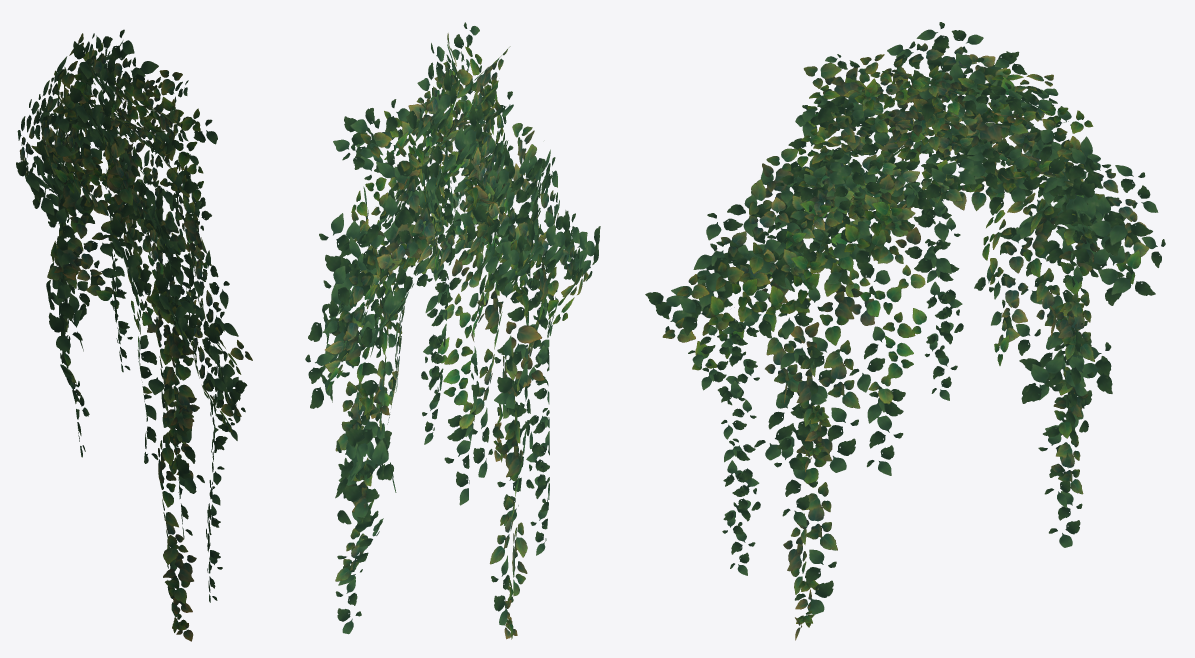
The model's file is SM_Ivy_Side_C.fbx.
The picture shows the model from 3 angles, left to right: view 1: azimuth 30°, elevation 25°; view 2: azimuth 150°, elevation 25°; view 3: azimuth 270°, elevation 25°; orthographic projection. The views are drawn at different scales.
Visible parts, largest first — view 1: SM_Ivy_Side_C_LOD0; view 2: SM_Ivy_Side_C_LOD0; view 3: SM_Ivy_Side_C_LOD0.
Part boxes in pixels (x1,y1,x2,y2): SM_Ivy_Side_C_LOD0: (16, 29, 252, 641); SM_Ivy_Side_C_LOD0: (305, 22, 600, 639); SM_Ivy_Side_C_LOD0: (645, 22, 1165, 640).
Bounding box in the file's own units: 90.08 × 568 × 448.
